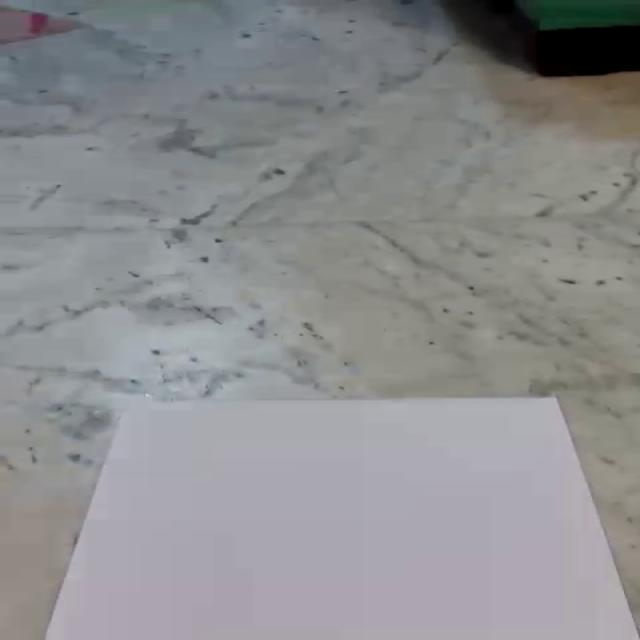road: (43, 396, 640, 640)
